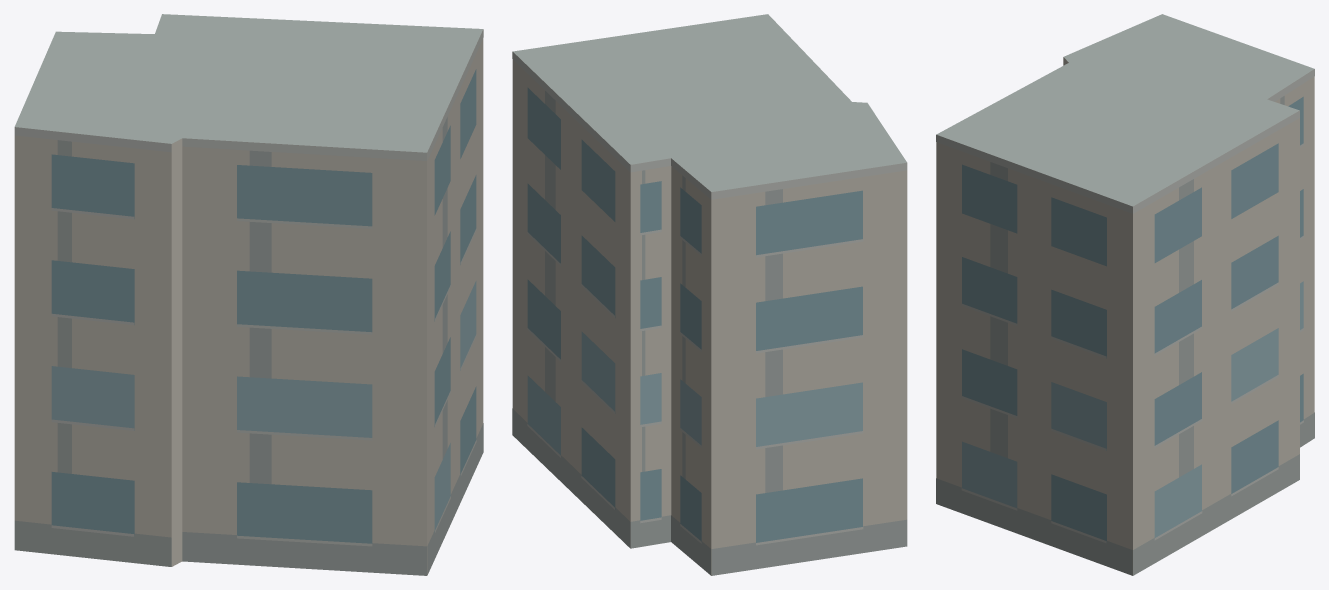
Rendered from residential-3e31d225-3e84-4564-80b5-fff514c1857f.glb.
3 renders of one model, left to right at view 1: azimuth 30°, elevation 25°; view 2: azimuth 150°, elevation 25°; view 3: azimuth 270°, elevation 25°, orthographic. The views are drawn at different scales.
Parts seen in each view (by area): view 1: residential-3e31d225-3e84-4564-80b5-fff514c1857f.tmp; view 2: residential-3e31d225-3e84-4564-80b5-fff514c1857f.tmp; view 3: residential-3e31d225-3e84-4564-80b5-fff514c1857f.tmp.
Boxes of the visible parts, x1,y1,x2,y2 form: residential-3e31d225-3e84-4564-80b5-fff514c1857f.tmp: (14,14,483,575); residential-3e31d225-3e84-4564-80b5-fff514c1857f.tmp: (512,14,907,575); residential-3e31d225-3e84-4564-80b5-fff514c1857f.tmp: (936,14,1314,575).
Bounding box in the file's own units: 13.65 × 12.2 × 11.34.
